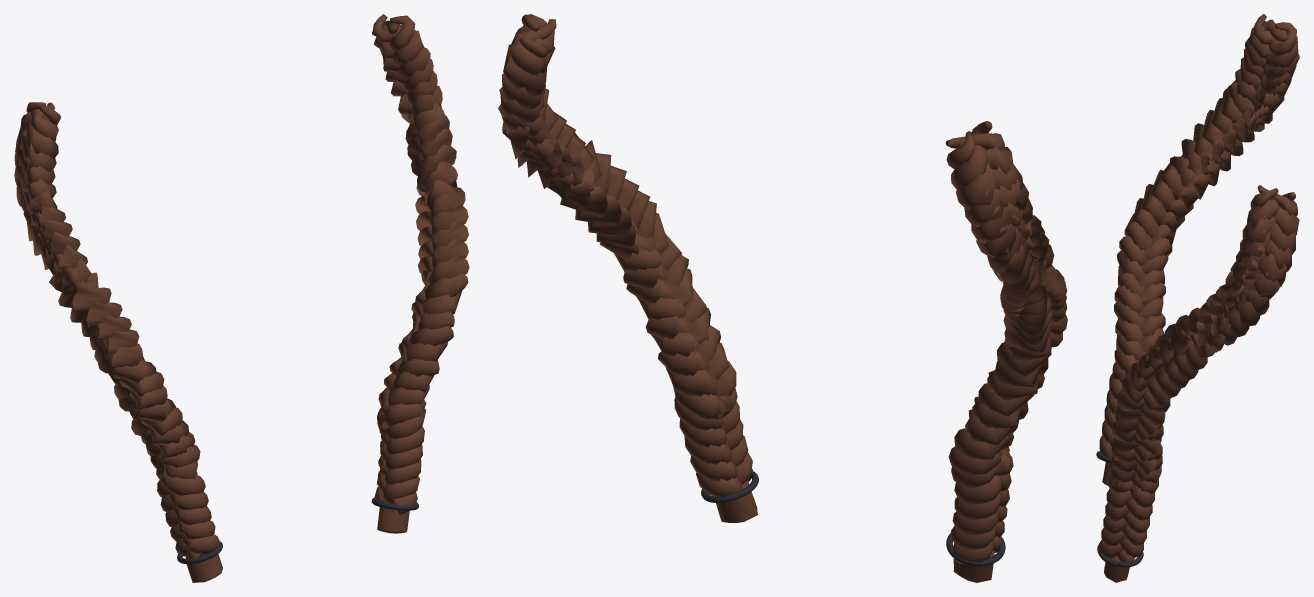
File: Feminine-twin-braids-bandeau-pashmina-lengths251.glb
The picture shows the model from 3 angles, left to right: view 1: azimuth 30°, elevation 25°; view 2: azimuth 150°, elevation 25°; view 3: azimuth 270°, elevation 25°; orthographic projection. The views are drawn at different scales.
Visible parts, largest first — view 1: 226 hairLengths / Hair / chestnut226, 226 hairLengths / Hair / ties226; view 2: 226 hairLengths / Hair / chestnut226, 226 hairLengths / Hair / ties226; view 3: 226 hairLengths / Hair / chestnut226, 226 hairLengths / Hair / ties226.
Boxes of the visible parts, <box> form: 226 hairLengths / Hair / chestnut226: <box>14,14,469,582</box>; 226 hairLengths / Hair / ties226: <box>177,497,418,564</box>; 226 hairLengths / Hair / chestnut226: <box>498,14,1067,582</box>; 226 hairLengths / Hair / ties226: <box>701,471,1005,566</box>; 226 hairLengths / Hair / chestnut226: <box>1099,14,1299,582</box>; 226 hairLengths / Hair / ties226: <box>1096,451,1143,567</box>.
Bounding box in the file's own units: 1.03 × 1.05 × 0.4513.
